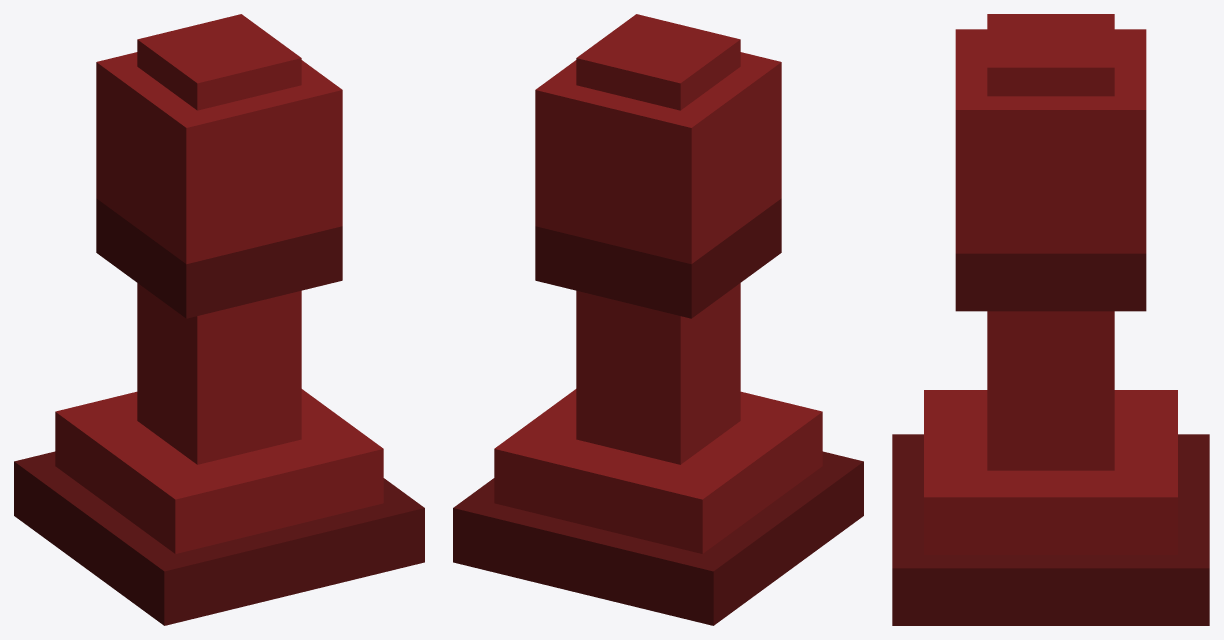
File: pawn.gltf
The picture shows the model from 3 angles, left to right: view 1: azimuth 30°, elevation 25°; view 2: azimuth 150°, elevation 25°; view 3: azimuth 270°, elevation 25°; orthographic projection. The views are drawn at different scales.
Parts seen in each view (by area): view 1: head, foot, base, stem, collar, head_top; view 2: head, foot, base, stem, collar, head_top; view 3: head, foot, base, stem, collar, head_top.
Boxes of the visible parts, bbox=[...] form: head: bbox=[96, 52, 342, 264]; foot: bbox=[55, 389, 383, 553]; base: bbox=[14, 451, 424, 625]; stem: bbox=[137, 283, 301, 464]; collar: bbox=[96, 198, 342, 318]; head_top: bbox=[137, 14, 301, 110]; head: bbox=[535, 52, 781, 264]; foot: bbox=[494, 389, 822, 553]; base: bbox=[453, 451, 863, 625]; stem: bbox=[576, 283, 740, 464]; collar: bbox=[535, 198, 781, 318]; head_top: bbox=[576, 14, 740, 110]; head: bbox=[955, 29, 1146, 253]; foot: bbox=[924, 390, 1177, 554]; base: bbox=[892, 434, 1209, 625]; stem: bbox=[987, 311, 1114, 470]; collar: bbox=[955, 253, 1146, 311]; head_top: bbox=[987, 14, 1114, 96].
Size of the model in its own units: 0.625 by 1.12 by 0.625.
Materials: 2 (2 with a texture image).
